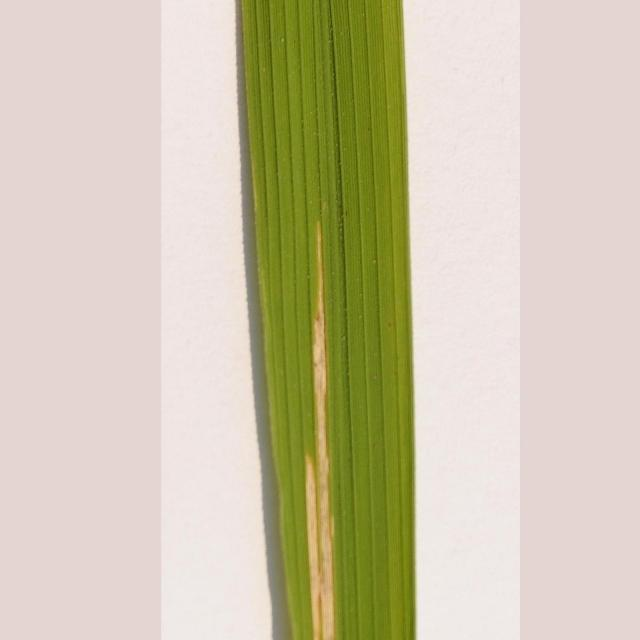leaf blight: (283, 218, 345, 640)
